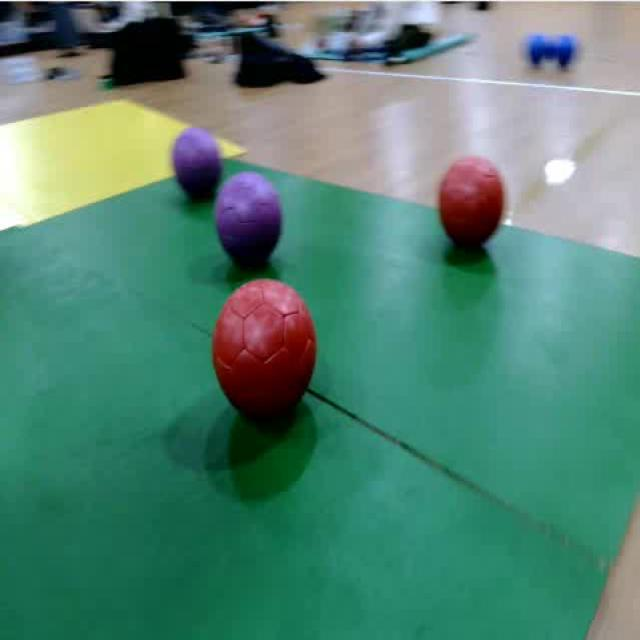blue_ball: (526, 31, 551, 73), (553, 32, 577, 70)
purple_ball: (217, 171, 286, 273), (170, 129, 225, 203)
red_ball: (212, 284, 322, 434), (434, 151, 509, 261)
